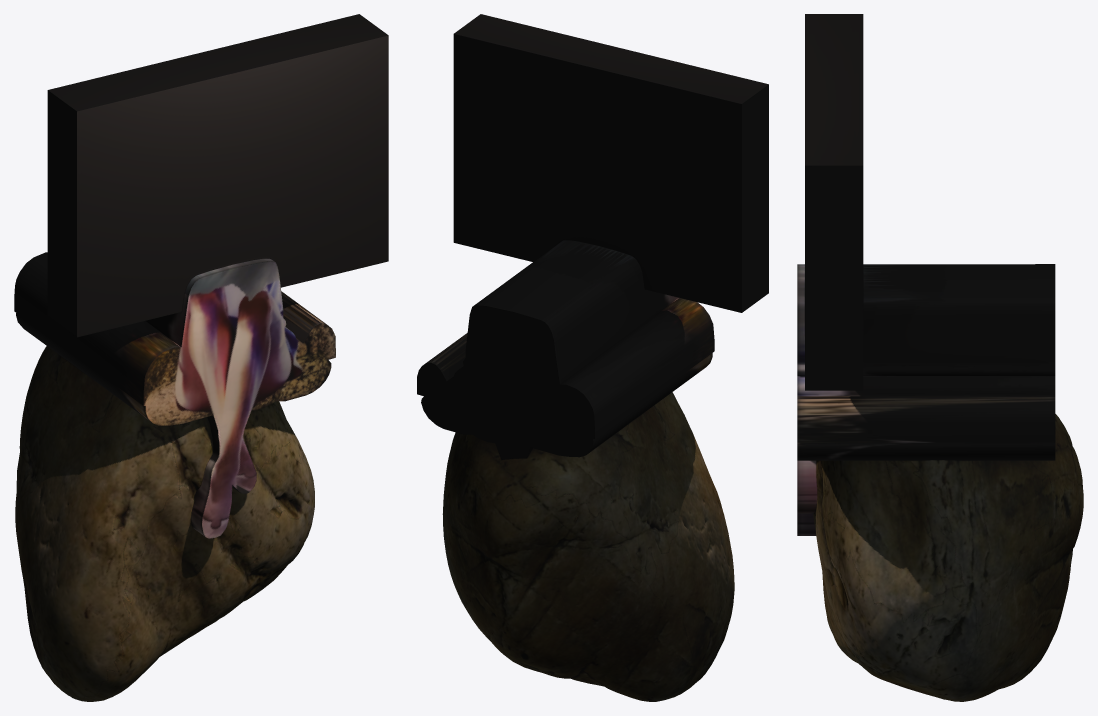
The model's file is odinochestvo3_12326d80.glb.
3 renders of one model, left to right at view 1: azimuth 30°, elevation 25°; view 2: azimuth 150°, elevation 25°; view 3: azimuth 270°, elevation 25°, orthographic. The views are drawn at different scales.
Parts seen in each view (by area): view 1: Mesh_0.001; view 2: Mesh_0.001; view 3: Mesh_0.001.
Part boxes in pixels (box(x1,y1,x2,y2)): Mesh_0.001: box(14, 14, 388, 701); Mesh_0.001: box(417, 14, 768, 701); Mesh_0.001: box(797, 14, 1083, 701).
Bounding box in the file's own units: 0.6137 × 1.2 × 0.49.
1 material, 1 textured.
